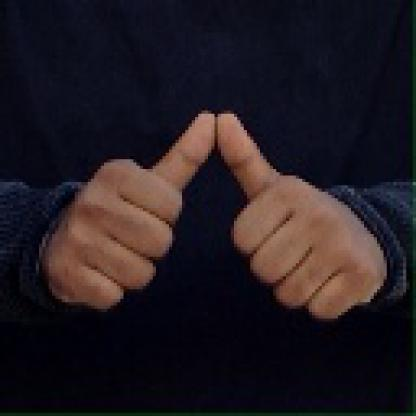A: (46, 102, 383, 326)
